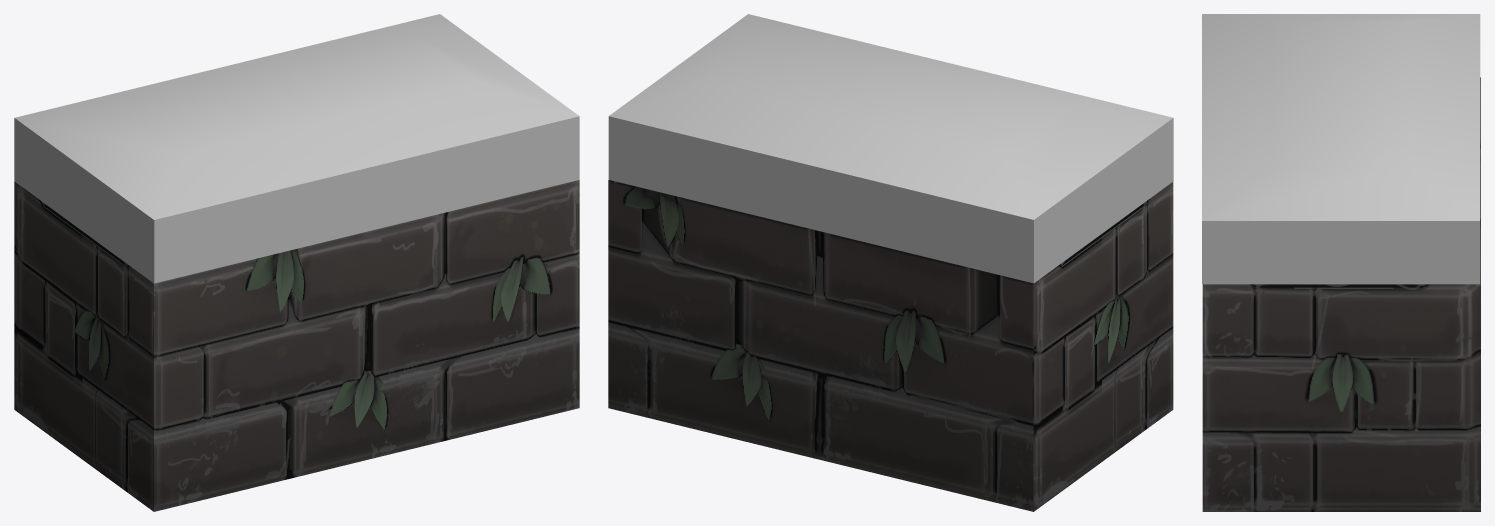
The model's file is platform_02.FBX.
The picture shows the model from 3 angles, left to right: view 1: azimuth 30°, elevation 25°; view 2: azimuth 150°, elevation 25°; view 3: azimuth 270°, elevation 25°; orthographic projection.
Parts seen in each view (by area): view 1: Object002; view 2: Object002; view 3: Object002.
Boxes of the visible parts, bbox=[...] form: Object002: bbox=[14, 14, 579, 511]; Object002: bbox=[608, 14, 1173, 511]; Object002: bbox=[1202, 14, 1480, 511].
Size of the model in its own units: 144 by 102 by 81.77.
